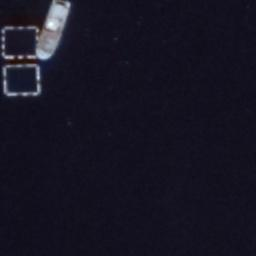square_solid: (1, 60, 45, 101), (1, 23, 41, 62)
